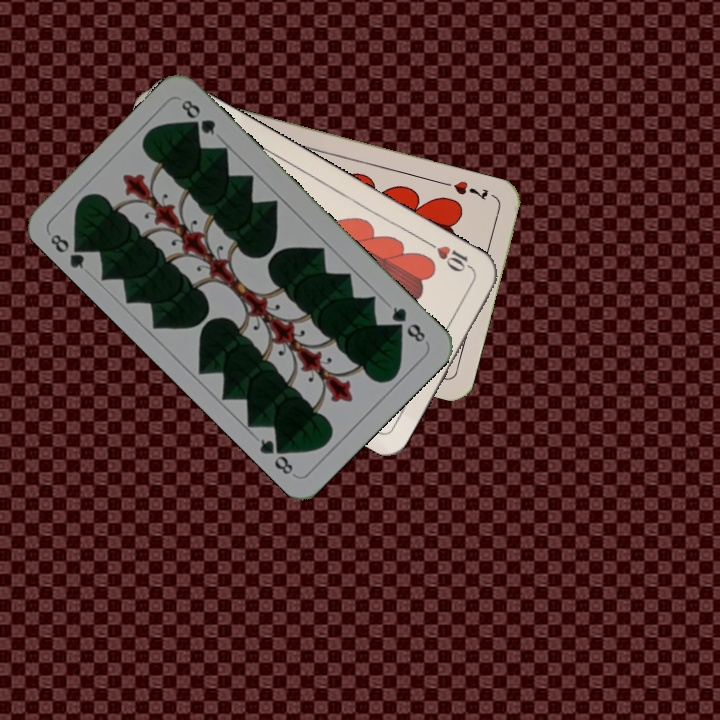G8: (46, 230, 91, 272), (387, 302, 428, 345)
H10: (423, 237, 477, 275)
H7: (438, 176, 491, 203)
